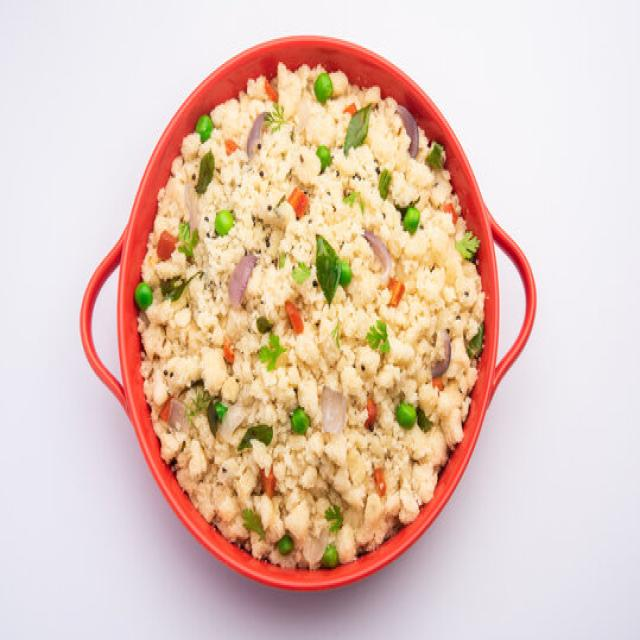UPMA: (131, 62, 494, 569)
